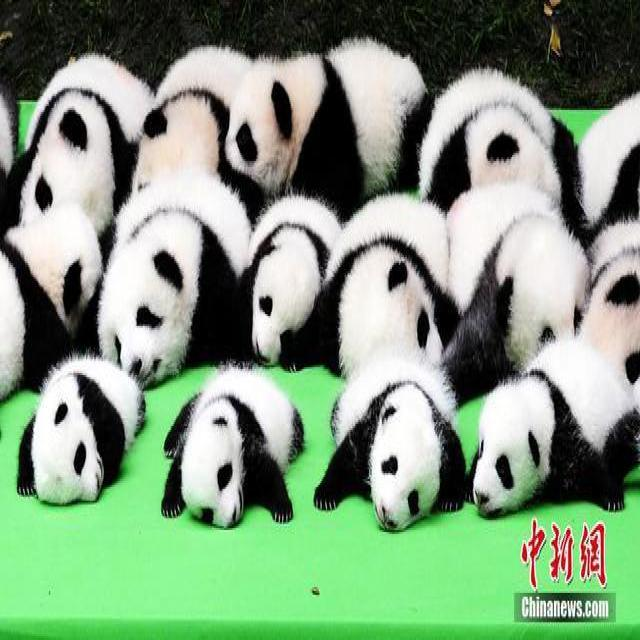panda: (2, 10, 640, 552), (468, 324, 640, 529), (312, 364, 468, 533), (15, 331, 156, 509), (161, 355, 305, 525)
